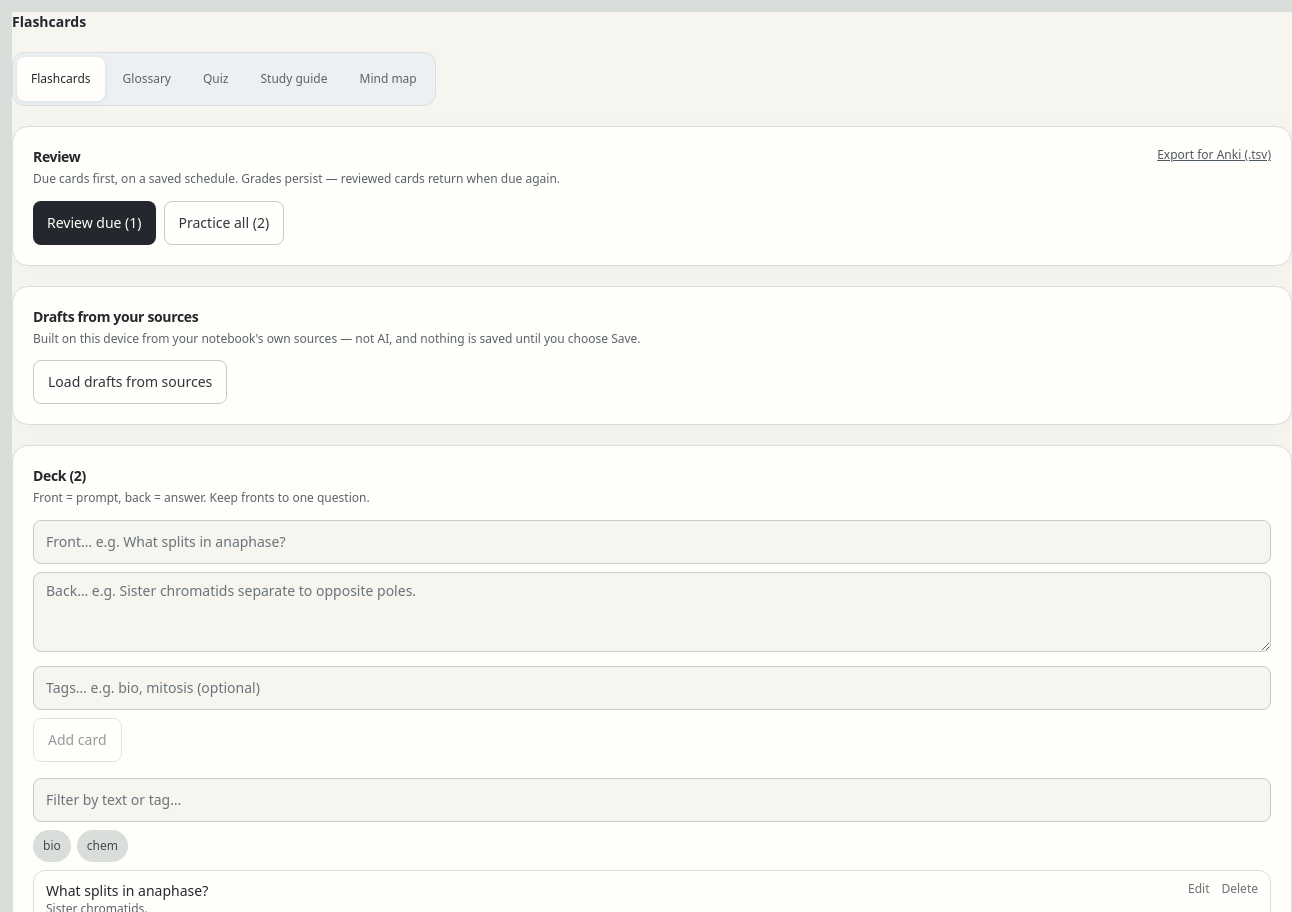
Test: StudyPanel flashcards v2 › never implies drafts are AI-generated
The image size is (1292, 912).
Check: the text "What splits in anaphase?" is shown, box [46,880,208,900]
Click the button "Load drafts from sources". click: [130, 382]
box: [33,360,227,404]
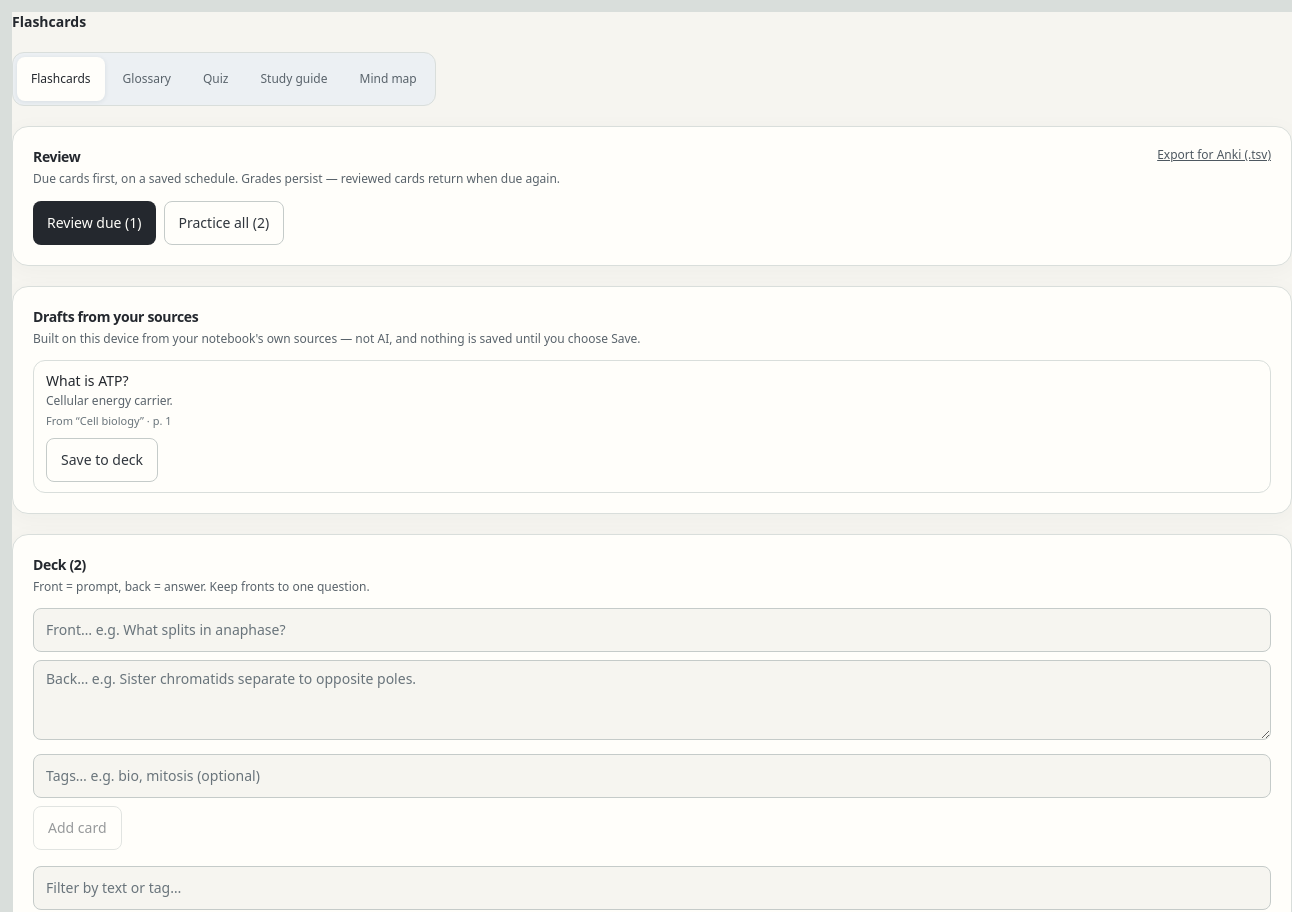
Check: the text "What is ATP?" shows "your sources", box [33,306,198,326]
Check: the text "What is ATP?" is shown, box [46,371,128,390]
